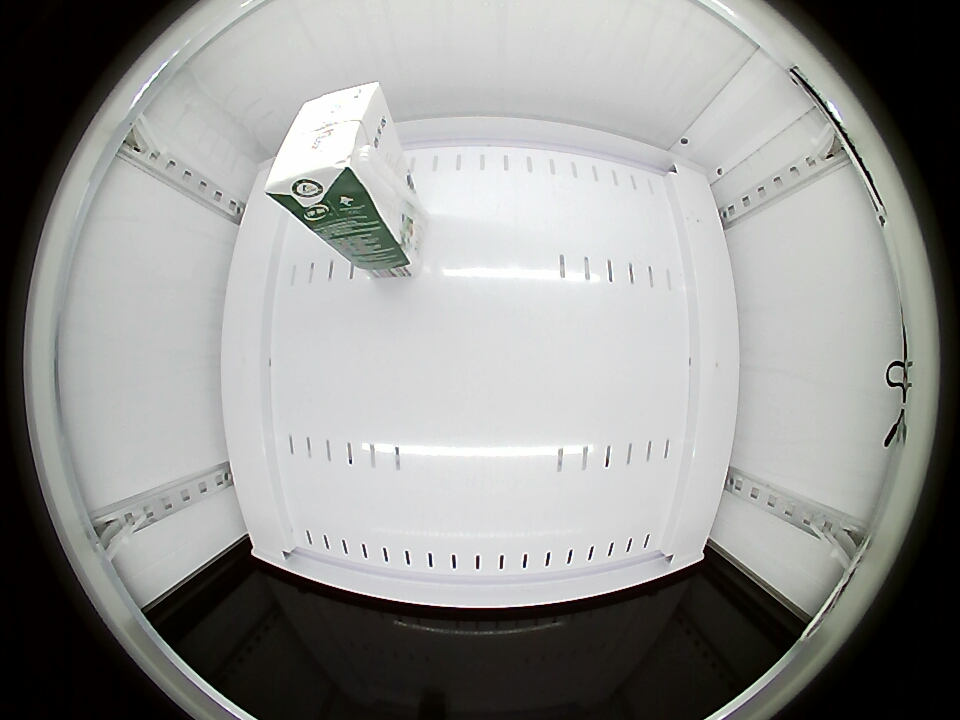jindian: (265, 80, 390, 222)
